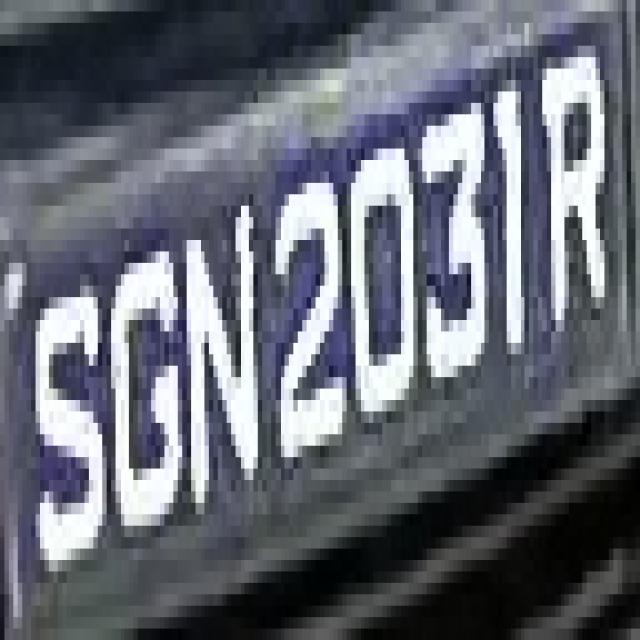0: (338, 114, 422, 446)
1: (484, 69, 538, 377)
2: (258, 148, 342, 446)
3: (422, 114, 493, 389)
G: (107, 228, 182, 526)
N: (182, 194, 271, 503)
R: (529, 46, 622, 331)
S: (27, 263, 106, 594)
